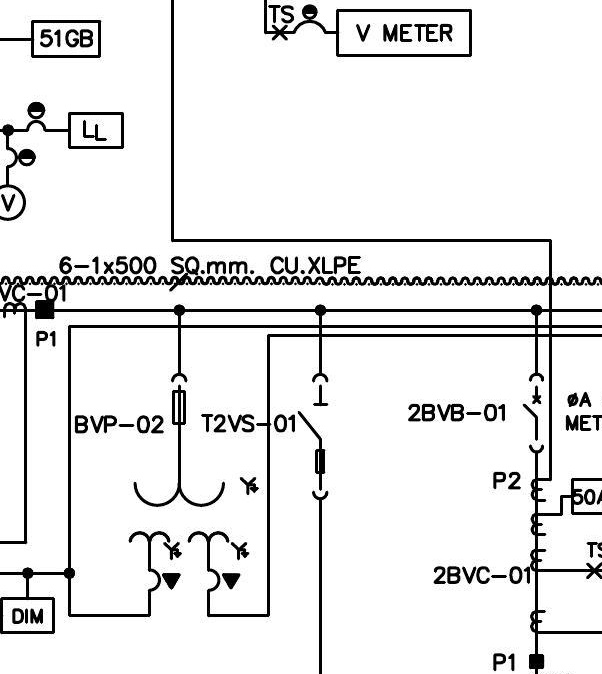22_breaker: (522, 372, 545, 454)
22_ds: (297, 372, 329, 501)
22_vt_3p: (127, 373, 259, 593)
LL: (67, 112, 125, 149)
v_m_digital: (335, 8, 473, 58)
